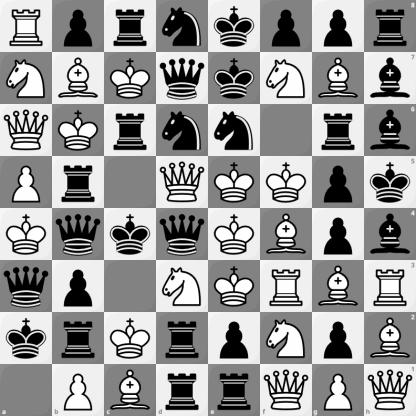B: (104, 364, 156, 416), (364, 312, 416, 364), (53, 53, 104, 104), (261, 209, 312, 260), (313, 53, 364, 104), (313, 261, 364, 312)
K: (1, 209, 52, 260), (53, 105, 104, 156), (105, 53, 156, 104), (105, 313, 156, 364), (209, 157, 260, 208), (209, 209, 260, 260), (209, 261, 260, 312), (261, 157, 312, 208)
N: (1, 53, 52, 104), (157, 261, 208, 312), (261, 53, 312, 104), (261, 313, 312, 364)
P: (52, 364, 104, 416), (312, 364, 364, 416), (1, 157, 52, 208)
Q: (260, 364, 312, 416), (364, 364, 416, 416), (1, 105, 52, 156), (157, 157, 208, 208)
R: (364, 260, 416, 312), (1, 1, 52, 52), (261, 261, 312, 312)
b: (364, 52, 416, 104), (364, 104, 416, 156), (364, 209, 416, 260)
board: (0, 0, 415, 415)
k: (364, 156, 416, 209), (1, 313, 52, 364), (105, 209, 156, 260), (209, 1, 260, 52), (209, 53, 260, 104)
n: (157, 1, 208, 52), (157, 105, 208, 156), (209, 105, 260, 156)
p: (53, 1, 104, 52), (53, 261, 104, 312), (209, 313, 260, 364), (261, 1, 312, 52), (313, 1, 364, 52), (313, 157, 364, 208), (313, 209, 364, 260), (313, 313, 364, 364)
q: (1, 261, 52, 312), (53, 209, 104, 260), (157, 53, 208, 104), (157, 209, 208, 260)
r: (156, 364, 209, 416), (364, 0, 416, 52), (209, 364, 260, 416), (53, 157, 104, 208), (53, 313, 104, 364), (105, 1, 156, 52), (105, 105, 156, 156), (157, 313, 208, 364), (313, 105, 364, 156)
